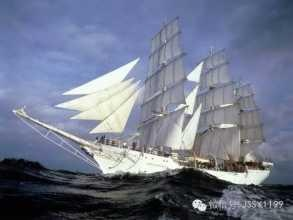fanchuan: (14, 14, 279, 174)
